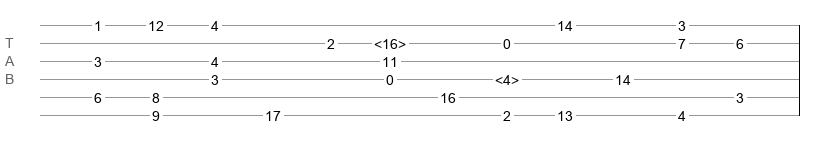0: (386, 72, 394, 82), (503, 36, 511, 46)
1: (94, 18, 102, 28)
11: (382, 54, 398, 64)
12: (148, 18, 164, 28)
13: (557, 108, 573, 118)
14: (557, 18, 573, 28), (615, 72, 631, 82)
16: (440, 90, 456, 100)
17: (265, 108, 281, 118)
2: (327, 36, 335, 46), (503, 108, 511, 118)
3: (94, 54, 102, 64), (211, 72, 219, 82), (678, 18, 686, 28), (736, 90, 744, 100)
4: (211, 18, 219, 28), (211, 54, 219, 64), (678, 108, 686, 118)
6: (94, 90, 102, 100), (736, 36, 744, 46)
7: (678, 36, 686, 46)
8: (152, 90, 160, 100)
9: (152, 108, 160, 118)
harmonic: (374, 36, 406, 46), (495, 72, 519, 82)
